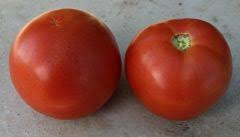tomato: (7, 8, 122, 116), (127, 15, 233, 119)
